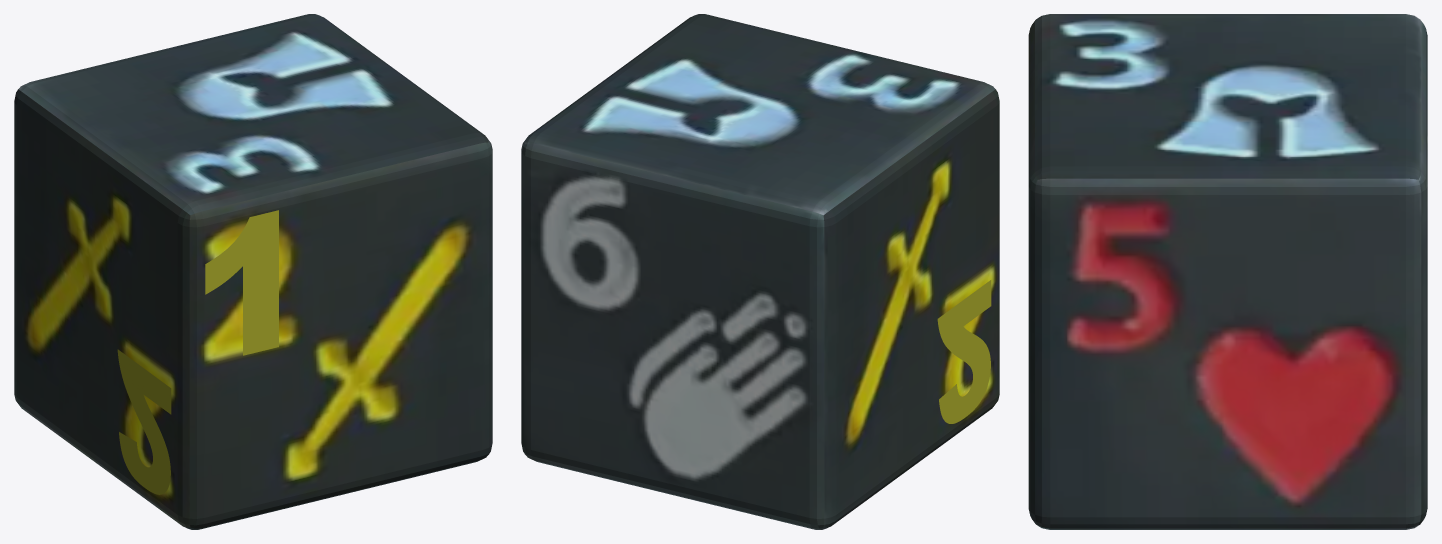
Rendered from Palidin Dice.001.fbx.
3 renders of one model, left to right at view 1: azimuth 30°, elevation 25°; view 2: azimuth 150°, elevation 25°; view 3: azimuth 270°, elevation 25°, orthographic. The views are drawn at different scales.
Parts seen in each view (by area): view 1: Cube.002; view 2: Cube.002; view 3: Cube.002.
Boxes of the visible parts, x1,y1,x2,y2 form: Cube.002: [14, 14, 492, 529]; Cube.002: [521, 14, 999, 529]; Cube.002: [1028, 14, 1427, 529].
Size of the model in its own units: 113 by 113 by 113.
Materials: 3 (1 with a texture image).
